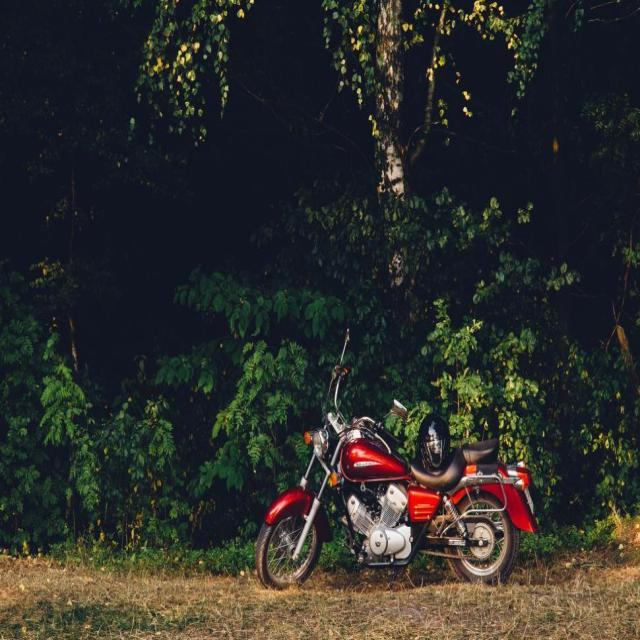Bike: (254, 400, 534, 586)
